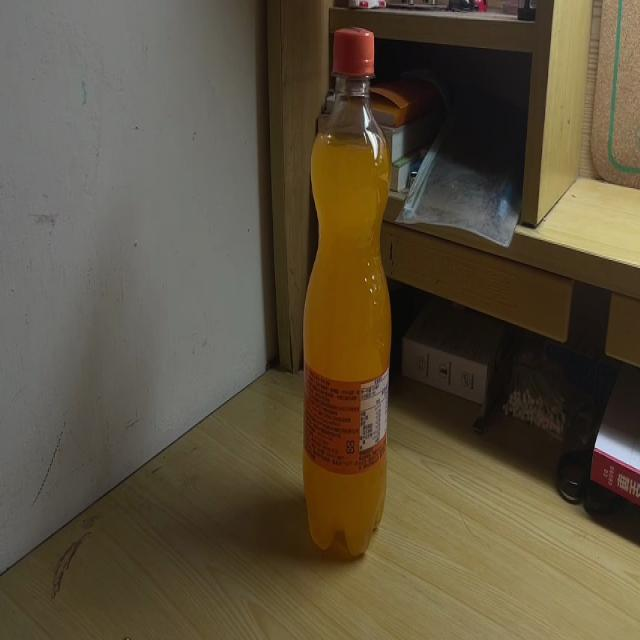Fanta: (304, 29, 393, 560)
